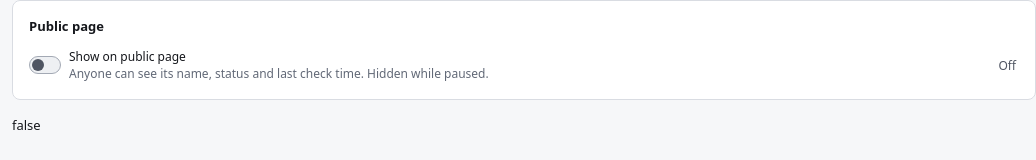
Test case: PublicPageGroup (FR-27, FR-68) › follows the form’s value false and toggles it
Click the switch named "Show on public page" at (45, 65), box [29,56,61,74]
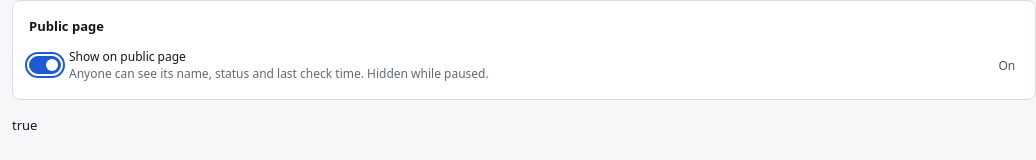
Expected: the text "true" is shown, [12,116,37,134]
